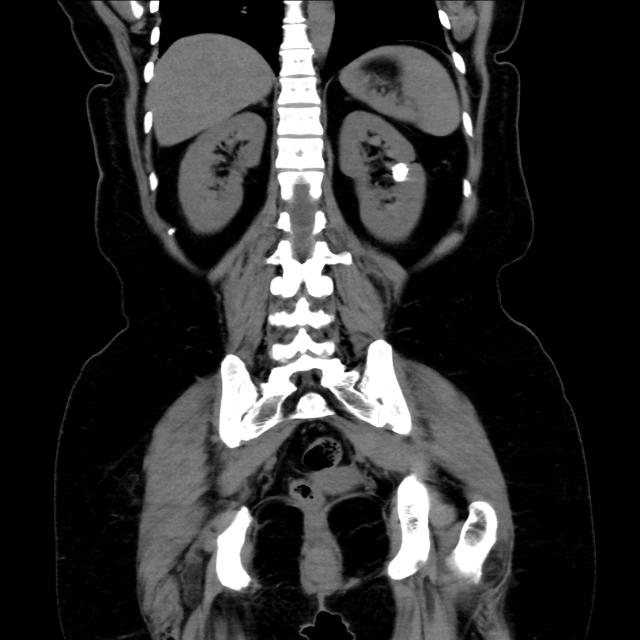kidneystone: (392, 162, 408, 181)
